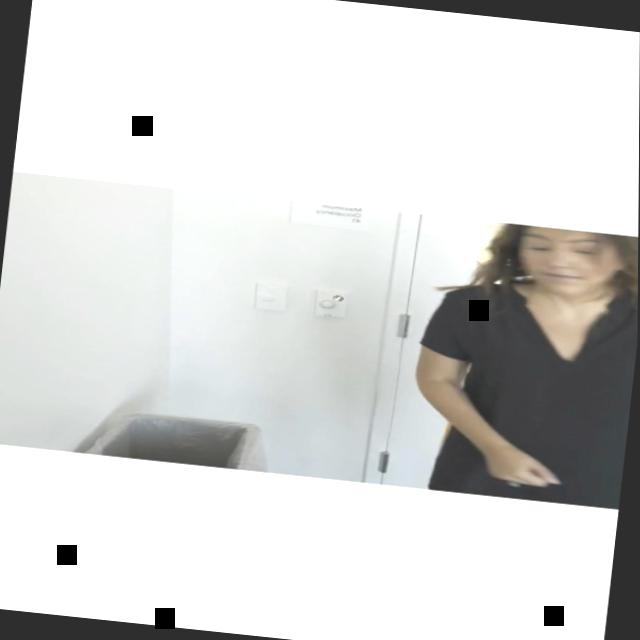NO-Mask: (513, 224, 628, 299)
